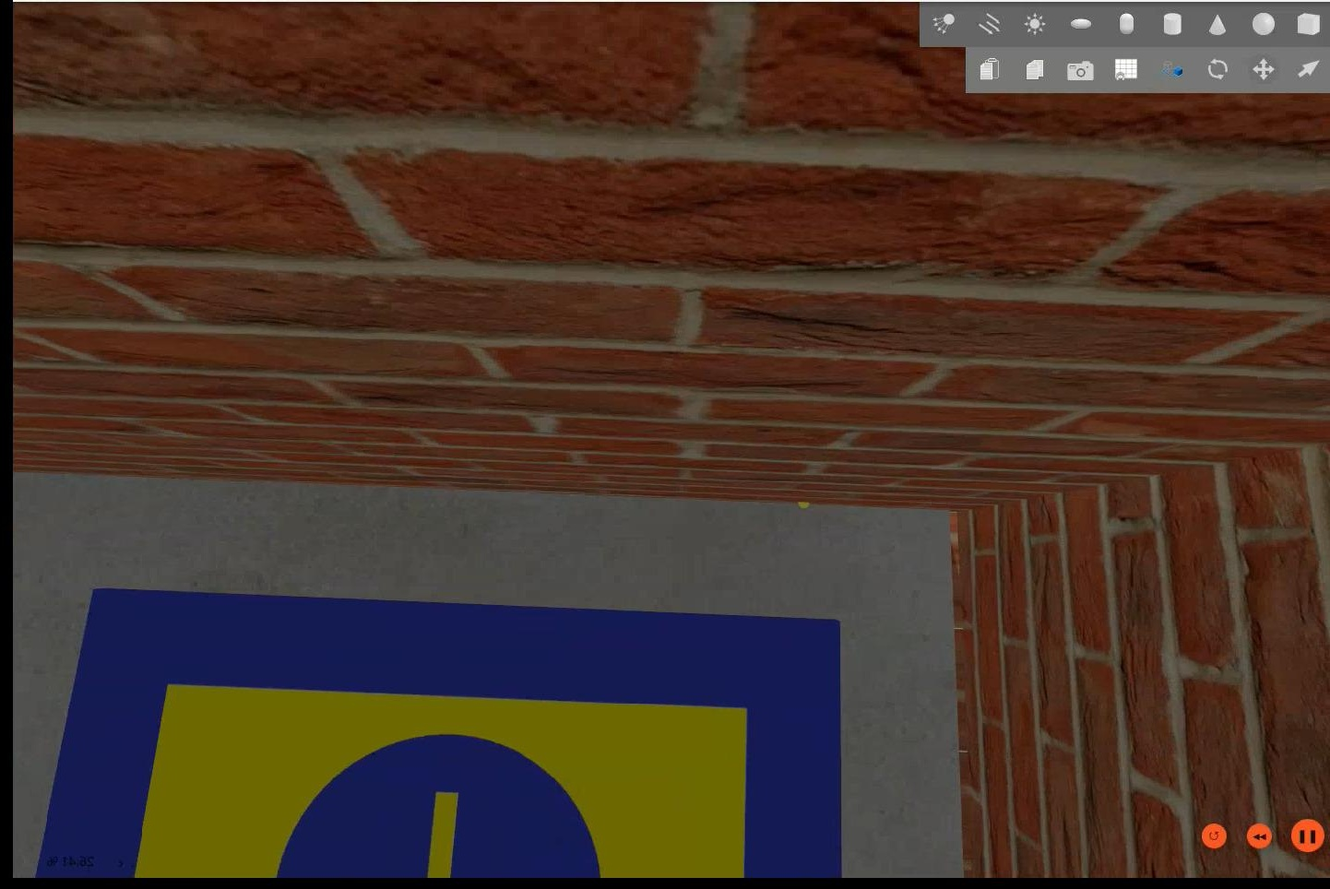large_base: (33, 589, 839, 879)
